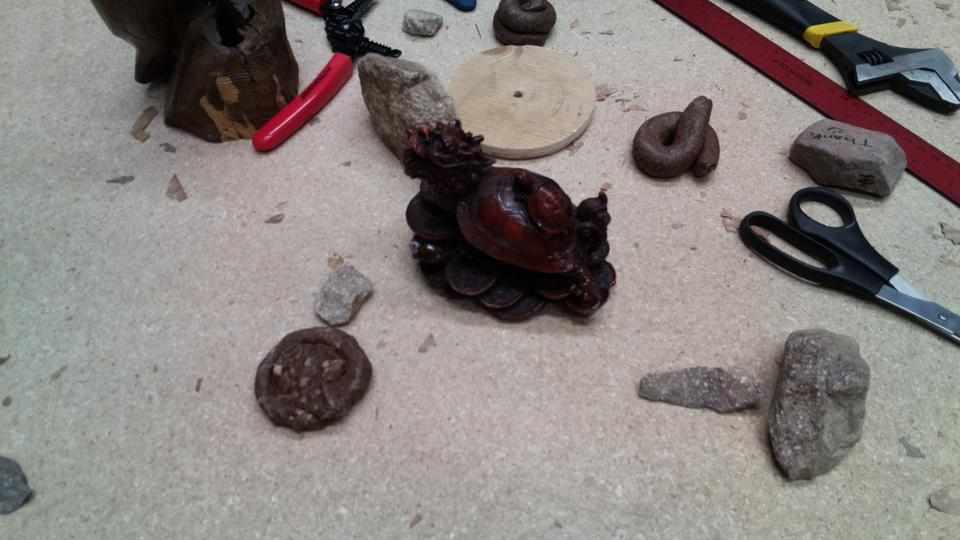poop: (251, 322, 376, 435), (627, 93, 729, 182), (491, 1, 559, 55)
